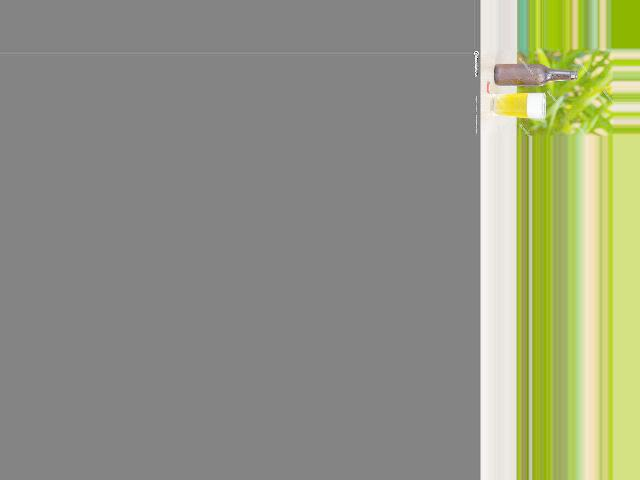beer: (493, 65, 576, 86)
